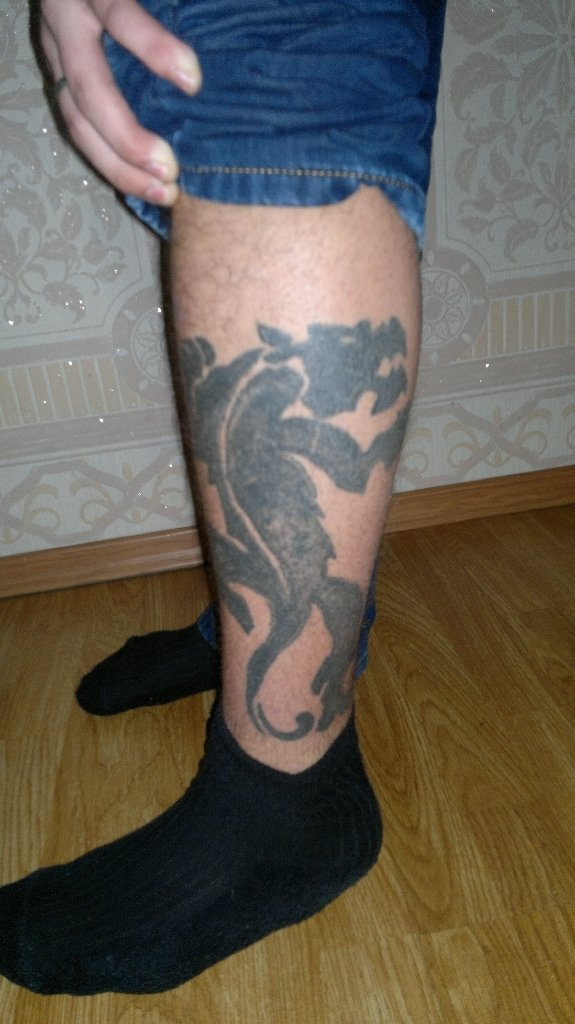tatu6_drakon: (156, 311, 457, 741)
